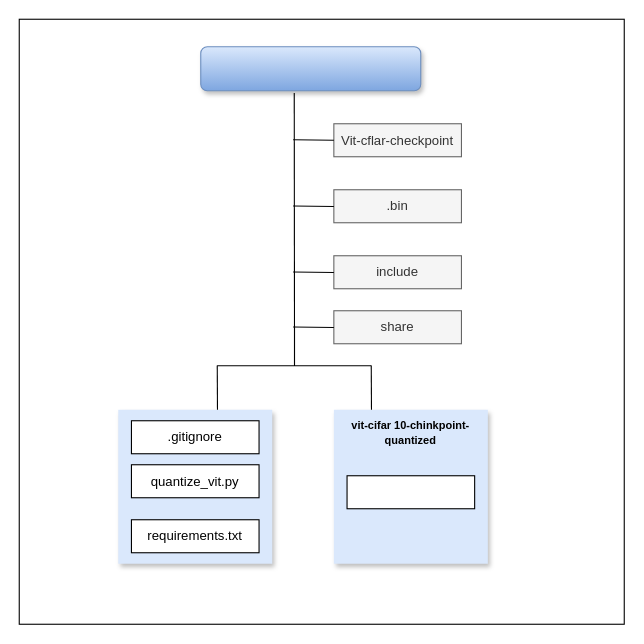
Image size: 644x644. Some labels were removed from this diagram. The centre of each missing label's shape, as x and y in pixels:
"config.json" goes at point 410,492.
"VIT_TRANSFER_LEARNING_CIFAR10" goes at point 311,69.
